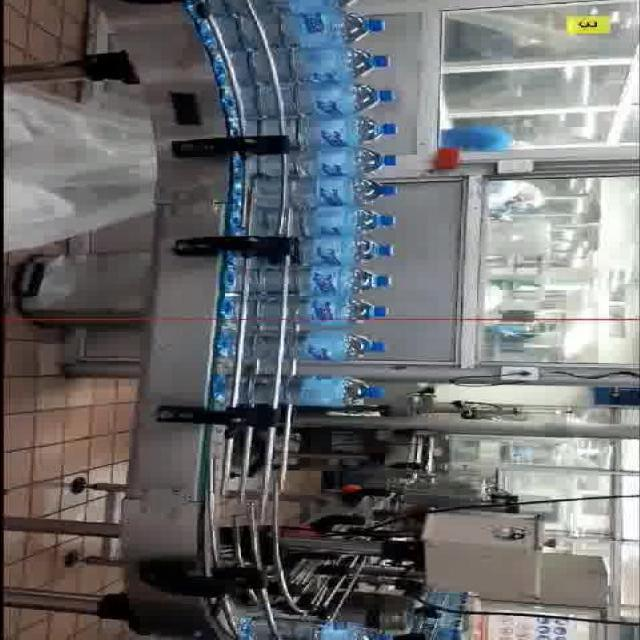bottle: (210, 372, 386, 409), (220, 263, 393, 298), (214, 328, 386, 363), (217, 294, 389, 326), (248, 44, 392, 82), (250, 204, 396, 238), (253, 82, 398, 116), (235, 14, 385, 46), (255, 148, 398, 178), (254, 176, 396, 206), (284, 115, 400, 146), (300, 236, 397, 265)
